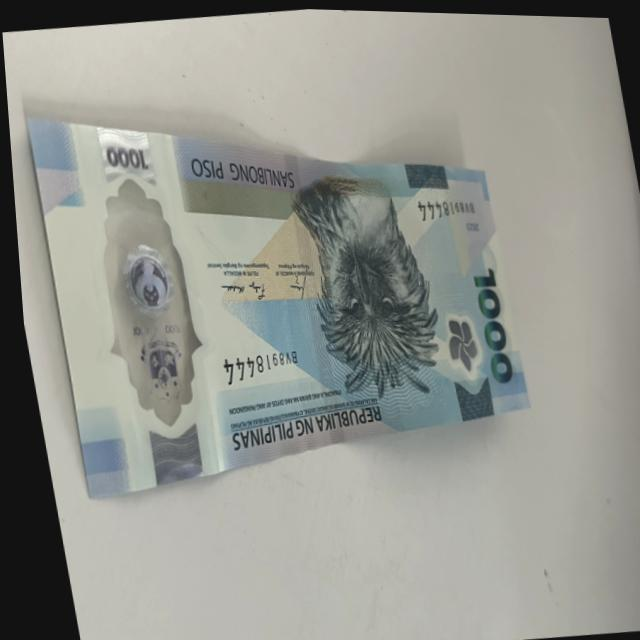clear_window: (77, 139, 217, 446)
eagle: (281, 169, 444, 400)
sampaguita: (426, 302, 480, 384)
security_thread: (271, 152, 342, 445)
serial_number: (208, 339, 303, 396), (407, 188, 478, 229)
value: (457, 259, 514, 394)
